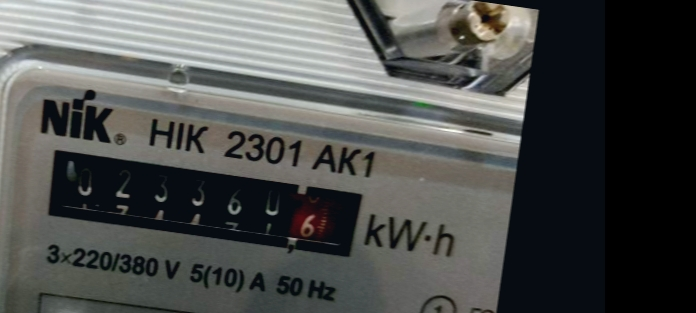0: (72, 161, 97, 196), (261, 183, 283, 216)
2: (109, 163, 137, 200)
3: (147, 168, 173, 203), (186, 173, 209, 206)
6: (221, 181, 246, 215), (294, 206, 319, 238)
screen: (25, 128, 377, 273)
